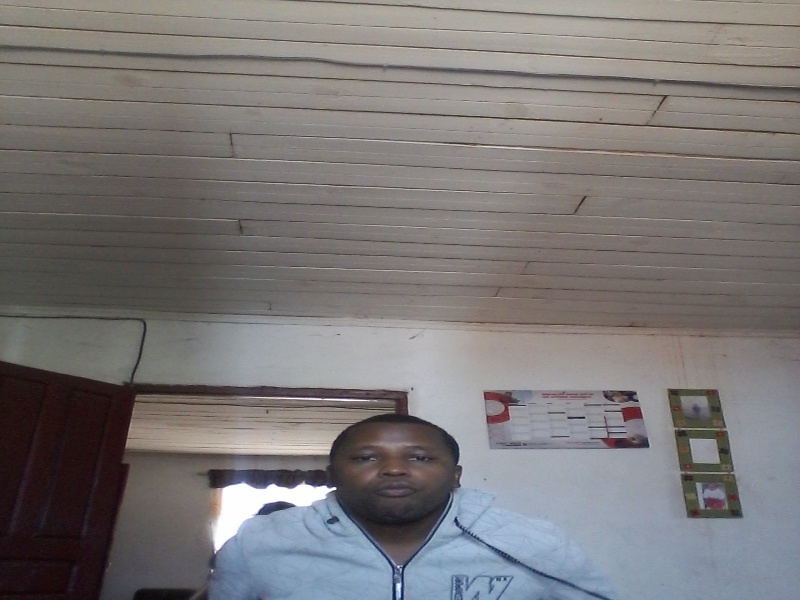TsisyArotava: (320, 420, 474, 533)
